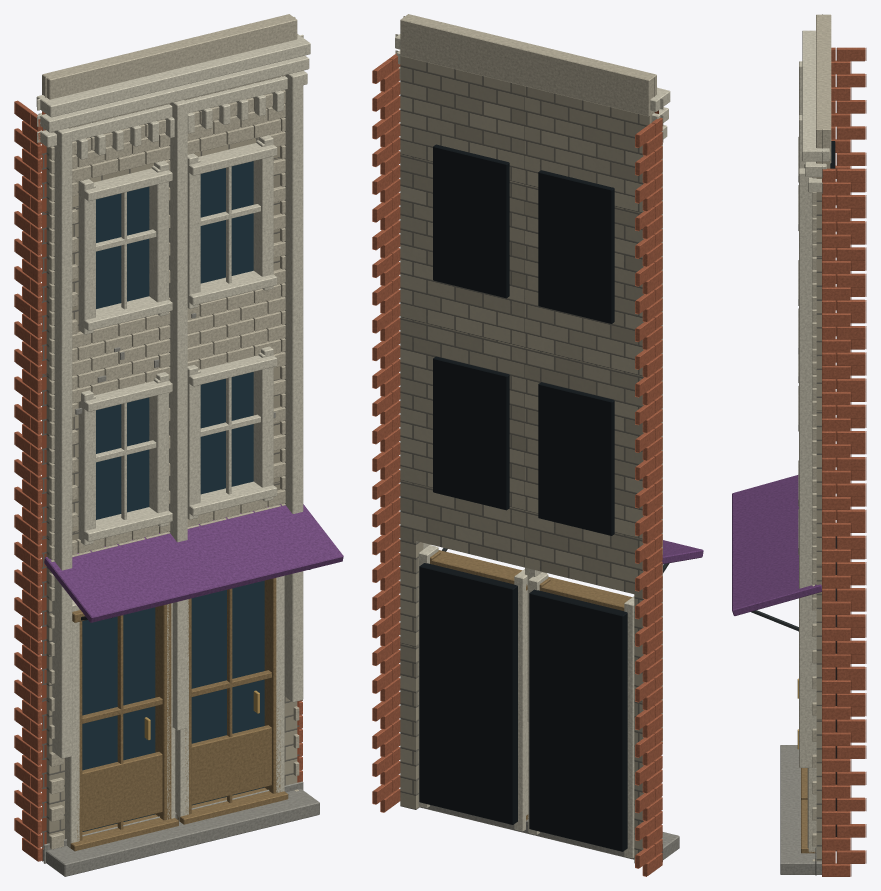
The model's file is BUSS9_lod0.glb.
3 renders of one model, left to right at view 1: azimuth 30°, elevation 25°; view 2: azimuth 150°, elevation 25°; view 3: azimuth 270°, elevation 25°, orthographic. The views are drawn at different scales.
Parts seen in each view (by area): view 1: BUSS9_FRONT_LOD0; view 2: BUSS9_FRONT_LOD0; view 3: BUSS9_FRONT_LOD0.
Boxes of the visible parts, x1=… form: BUSS9_FRONT_LOD0: x1=14, y1=14, x2=343, y2=876; BUSS9_FRONT_LOD0: x1=372, y1=14, x2=703, y2=876; BUSS9_FRONT_LOD0: x1=732, y1=14, x2=866, y2=876.
Size of the model in its own units: 3.44 by 9.66 by 1.59.
Materials: 17 (14 with a texture image).
